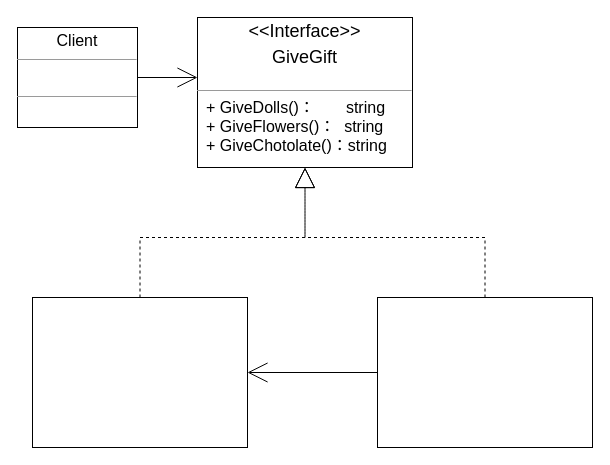
This 610x465 diagram has some shape labels left out. Each missing label, with the centre of its shape:
Proxy + GiveDolls()： string + GiveFlowers()： string + GiveChotolate()：string: point (484, 372)
Pursuit + GiveDolls()： string + GiveFlowers()： string + GiveChotolate()：string: point (140, 372)
